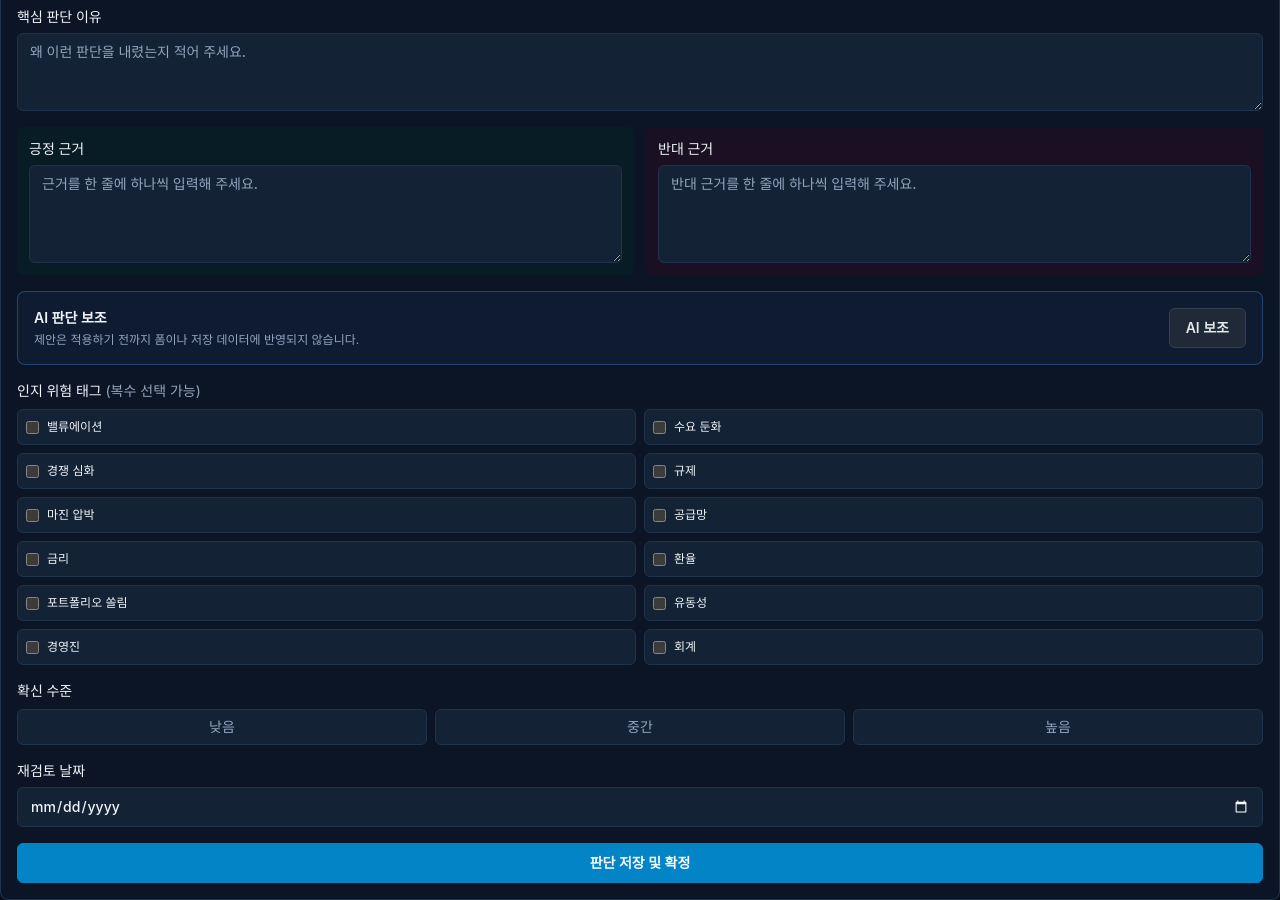
DecisionFormPanel › blocks submission and explains both missing required values
This screenshot has width=1280, height=900.
(page scrolled)
Step 1. Click the button "판단 저장 및 확정" → click(640, 863), box [17,843,1263,883]
(page scrolled)
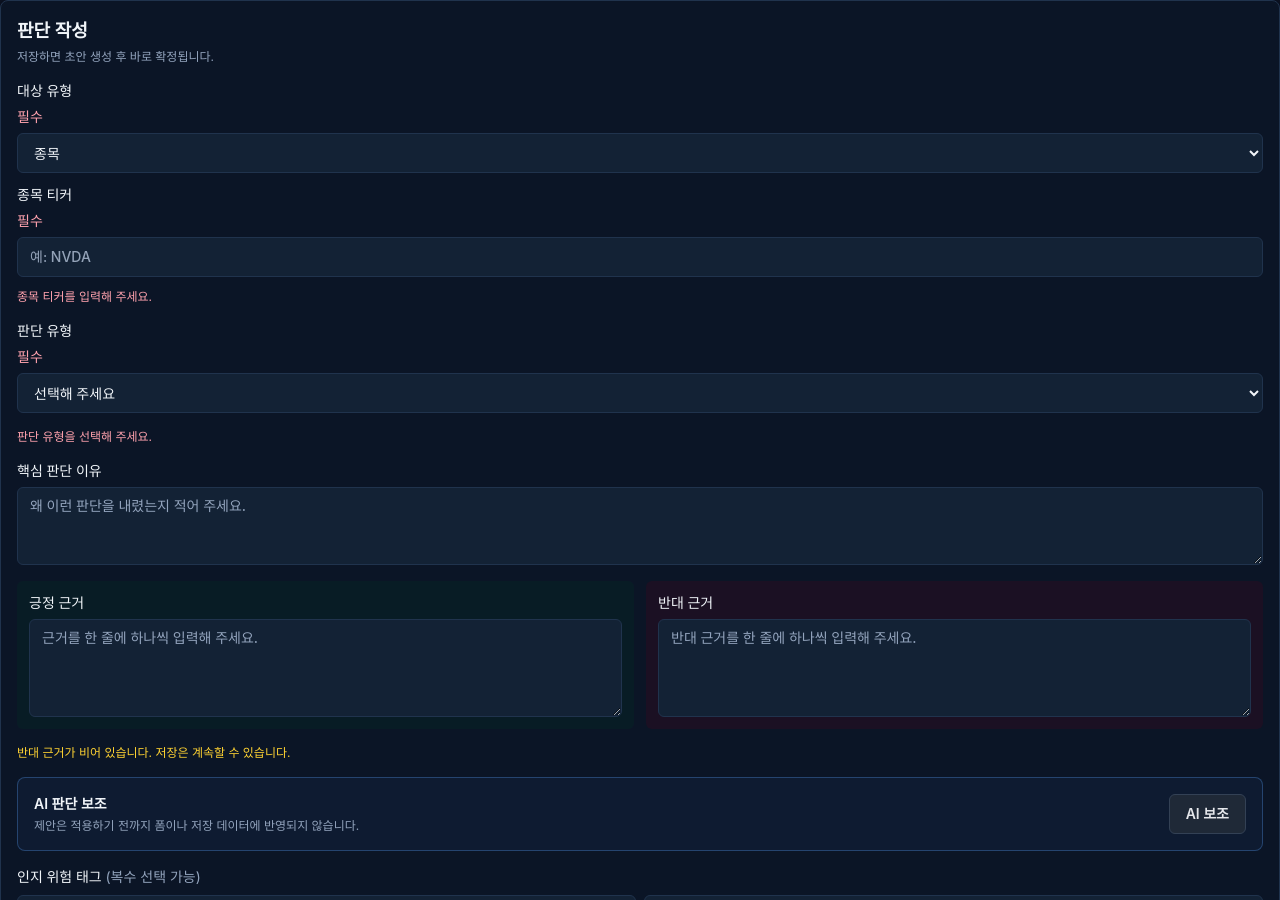
Now the text "종목 티커를 입력해 주세요." is shown, box [17,289,152,304]
Now the text "판단 유형을 선택해 주세요." is shown, box [17,429,152,444]
